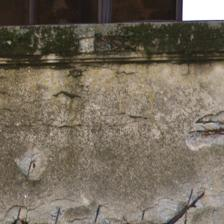Crack: (32, 72, 114, 114), (15, 7, 51, 52), (31, 82, 55, 142)
